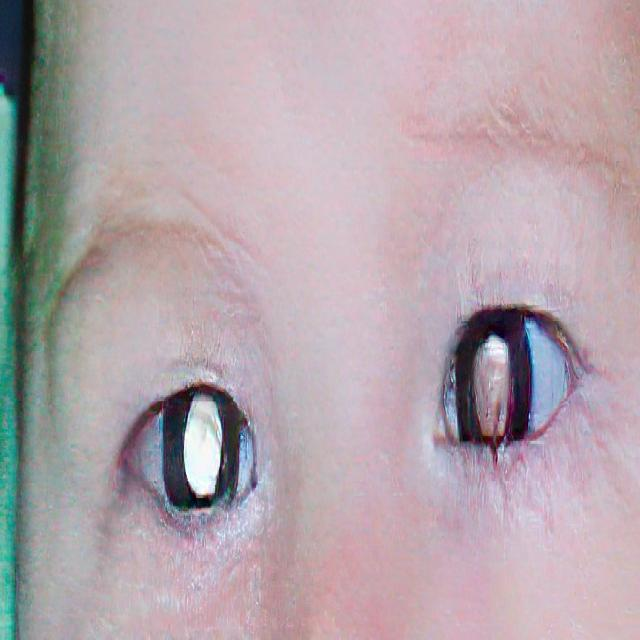reflexo-alterado: (427, 284, 553, 502), (127, 350, 256, 562)
